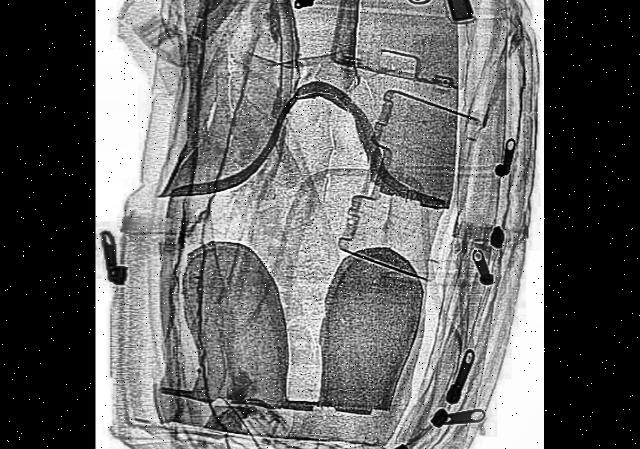Gun: (349, 0, 478, 22)
